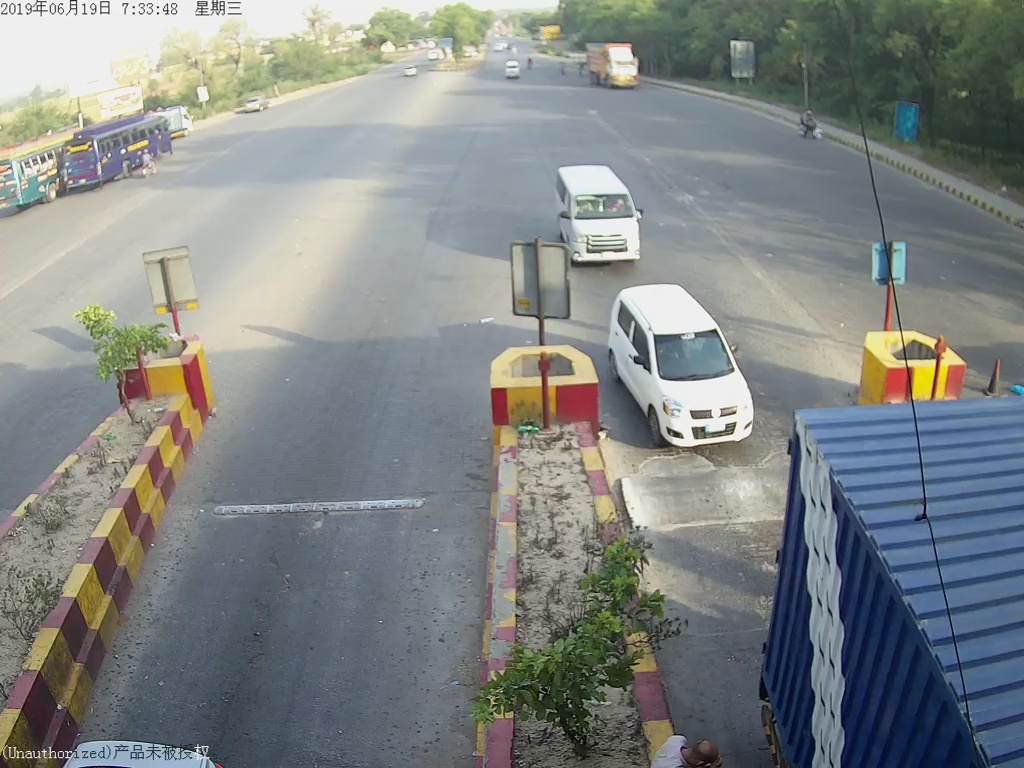Cat-1: (614, 293, 765, 447)
Cat-2: (553, 159, 654, 266)
